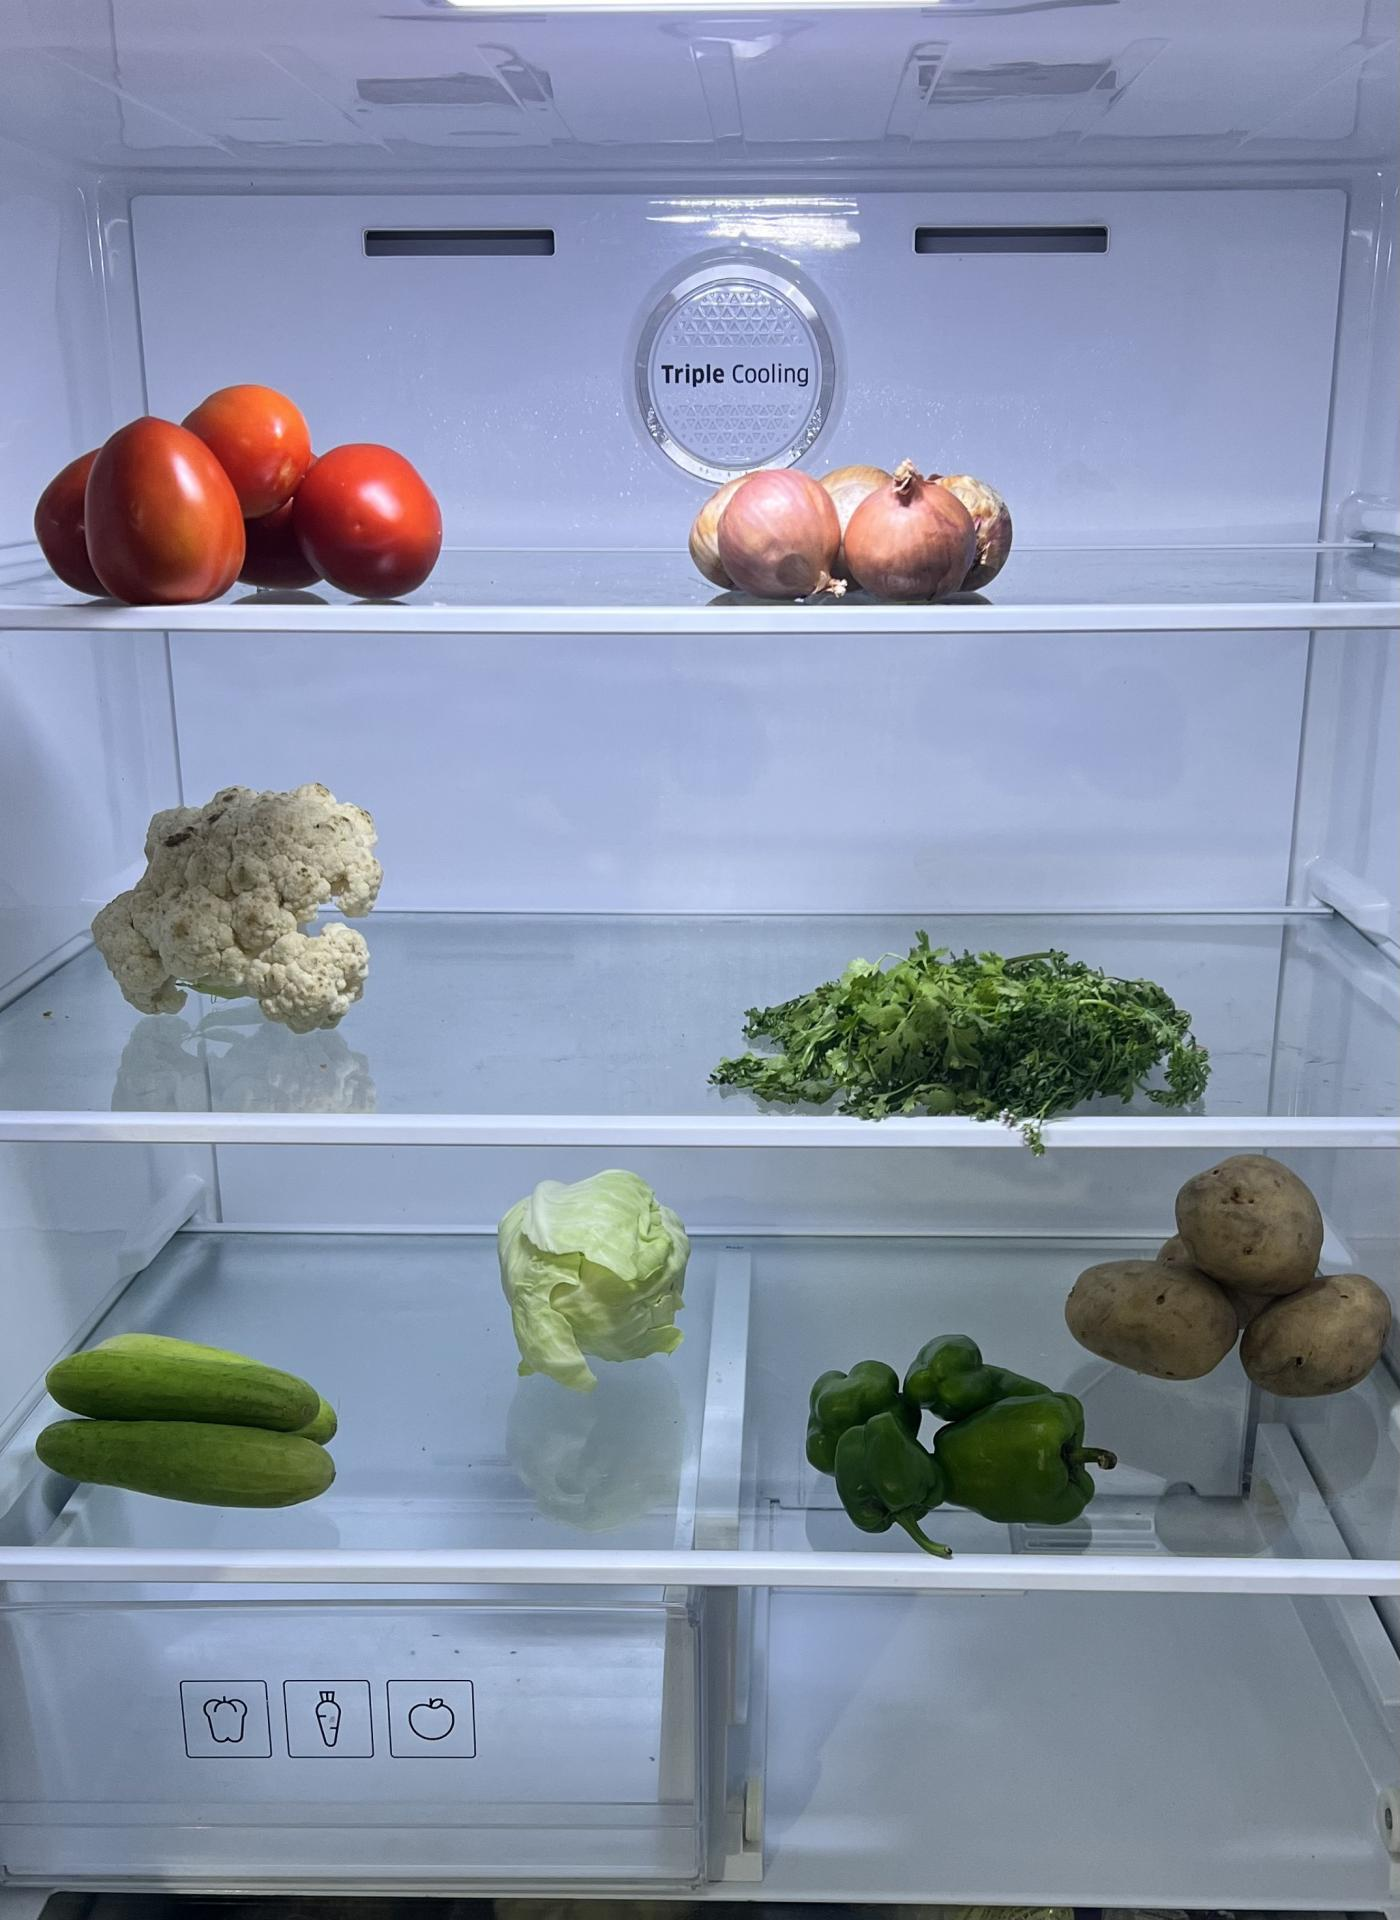cabbage: (504, 1172, 698, 1385)
capsicum: (804, 1337, 1106, 1537)
cauliflower: (98, 778, 386, 1035)
coriander: (726, 944, 1200, 1120)
cucumber: (25, 1331, 350, 1504)
onion: (692, 452, 1020, 598)
potato: (1065, 1151, 1396, 1397)
tomato: (30, 377, 449, 599)
